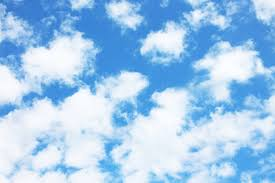sky: (2, 2, 275, 179)
